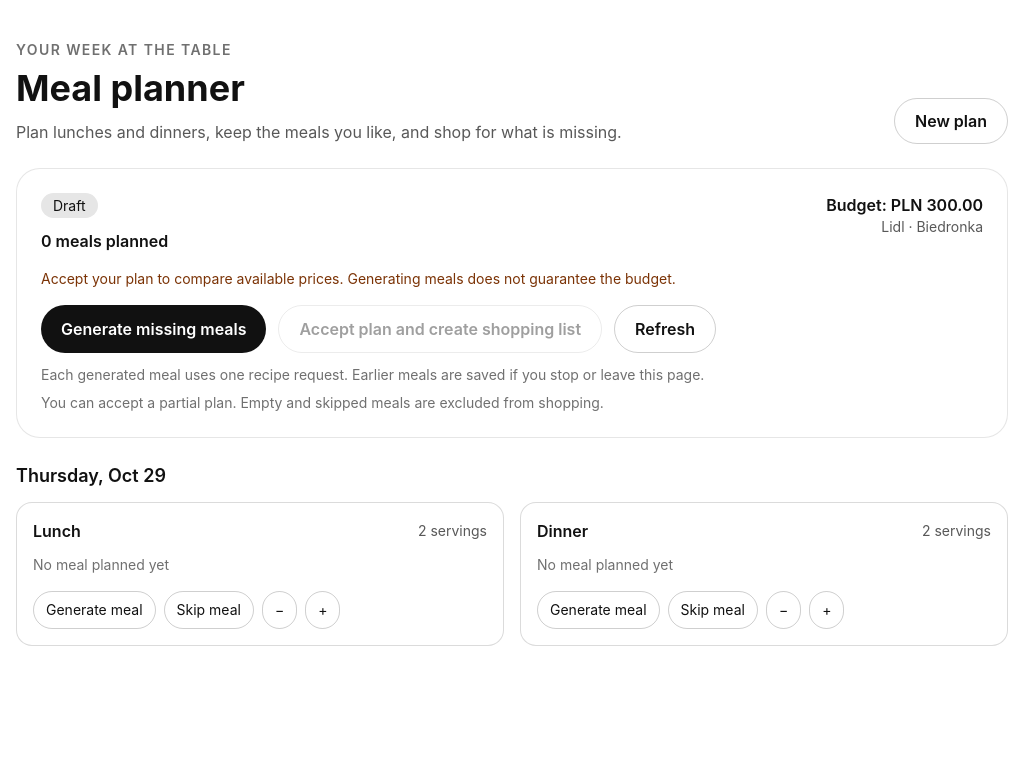
Test: Meal planner › generates sequentially using each returned version
Click the button "Generate missing meals". click: (154,329)
box: [41,305,266,353]
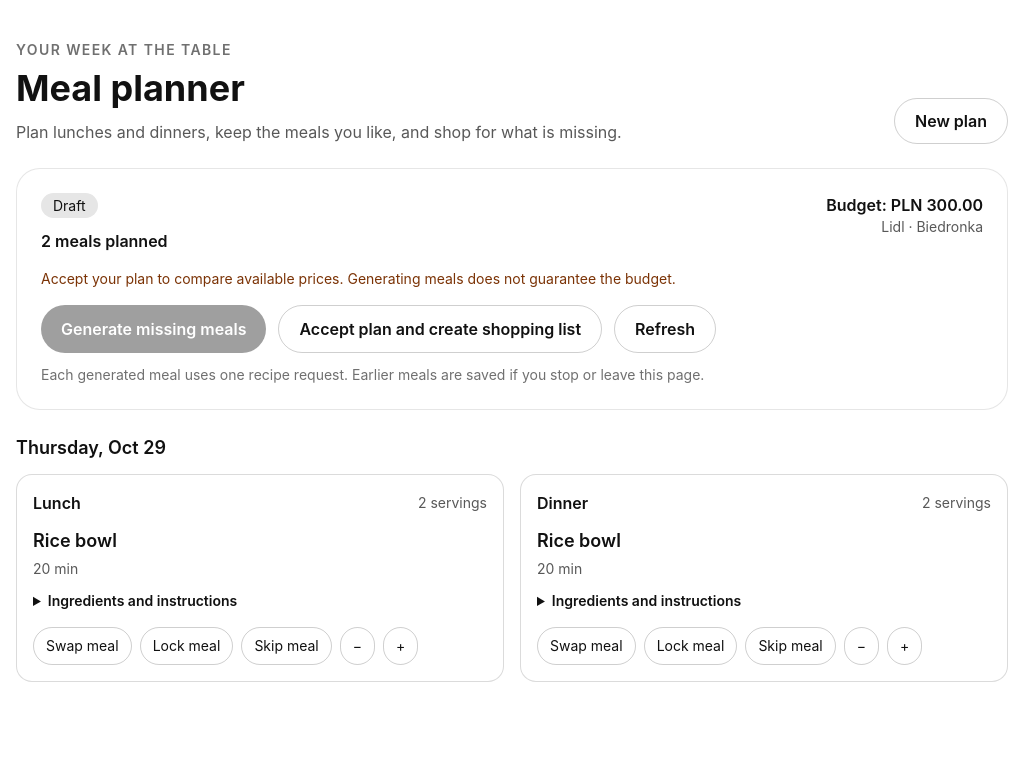
Expected: the text "Generating meals does not guarantee the budget" is shown, [41,270,676,287]
Result: the number of headings "Rice bowl" is 2 at [33,530,117,551]; [537,530,621,551]
